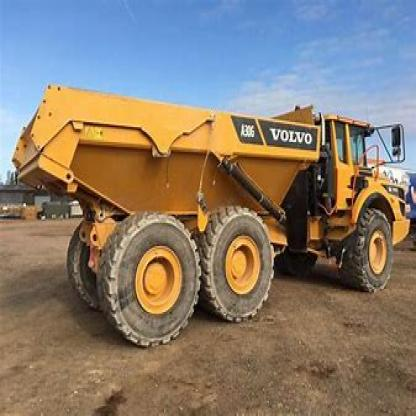dump_truck: (12, 64, 410, 348)
